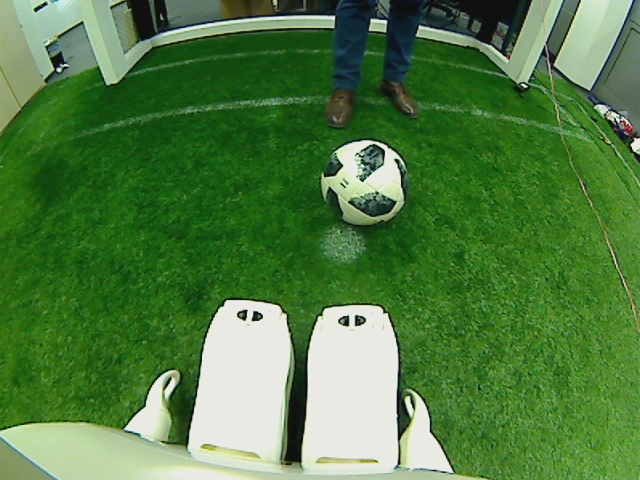ball: (321, 133, 408, 229)
